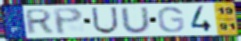4: (189, 5, 214, 34)
G: (157, 6, 186, 34)
P: (52, 7, 85, 36)
R: (25, 8, 54, 36)
U: (120, 6, 153, 34), (91, 6, 120, 35)
